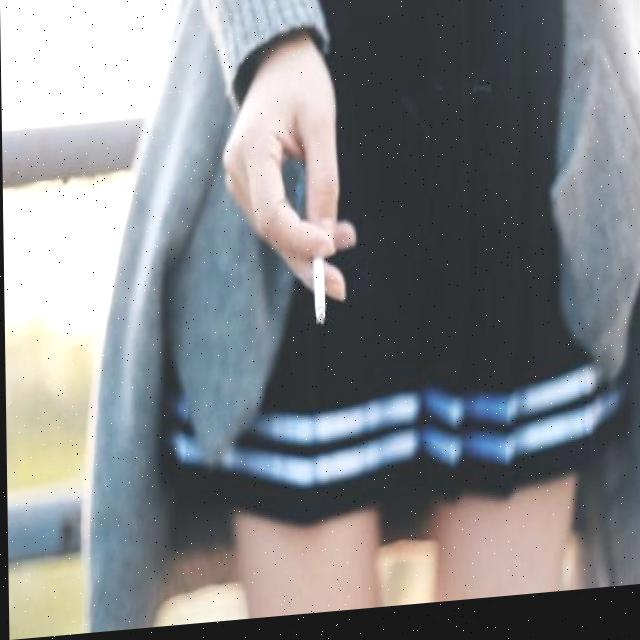cigarette: (314, 261, 325, 331)
